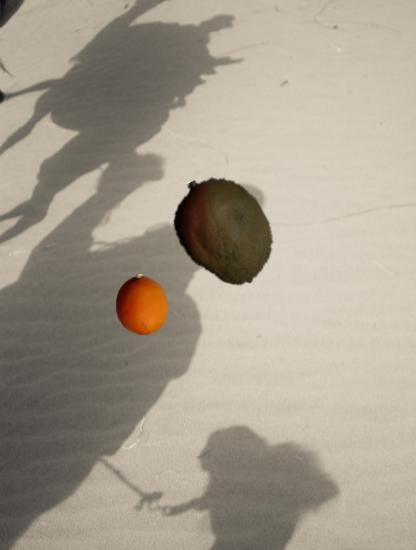Apricot: (111, 274, 173, 336)
Papaya: (164, 173, 282, 291)
